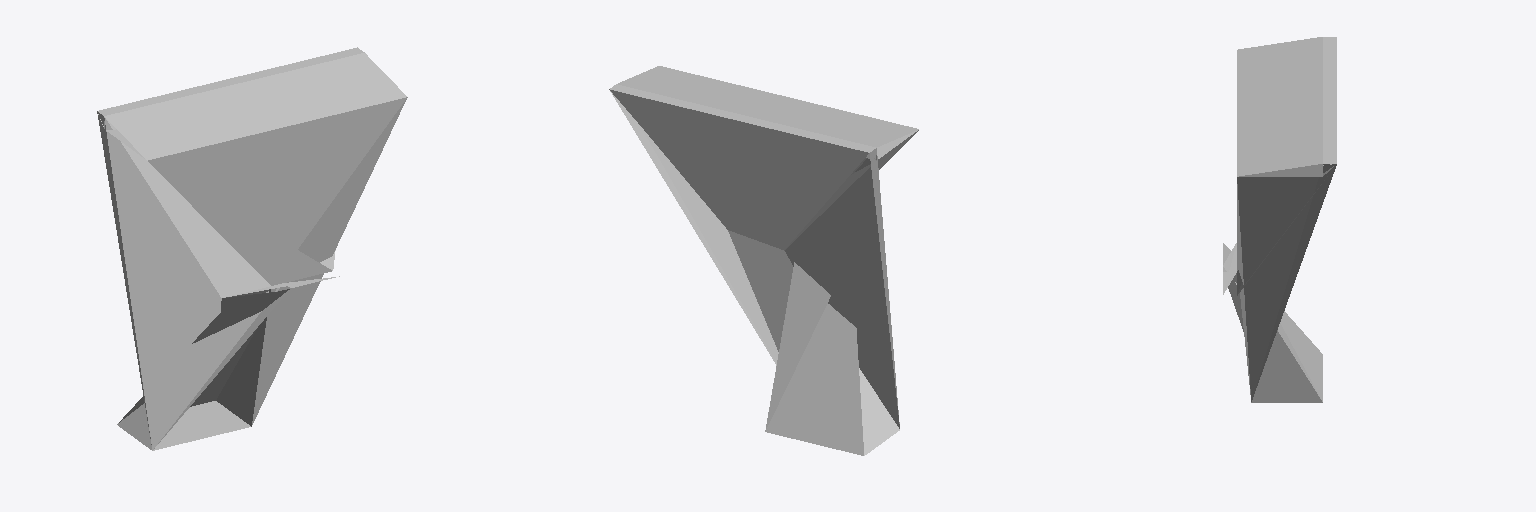
Rendered from Med Bay Locker 3.obj.
The picture shows the model from 3 angles: view 1: azimuth 30°, elevation 25°; view 2: azimuth 150°, elevation 25°; view 3: azimuth 270°, elevation 25°; orthographic projection.
Bounding box in the file's own units: 21 × 24 × 8.